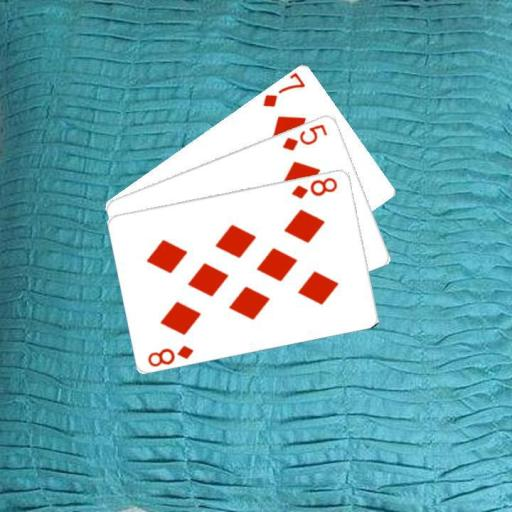5D: (280, 120, 330, 152)
7D: (260, 70, 307, 109)
8D: (288, 173, 339, 200), (145, 342, 196, 368)
